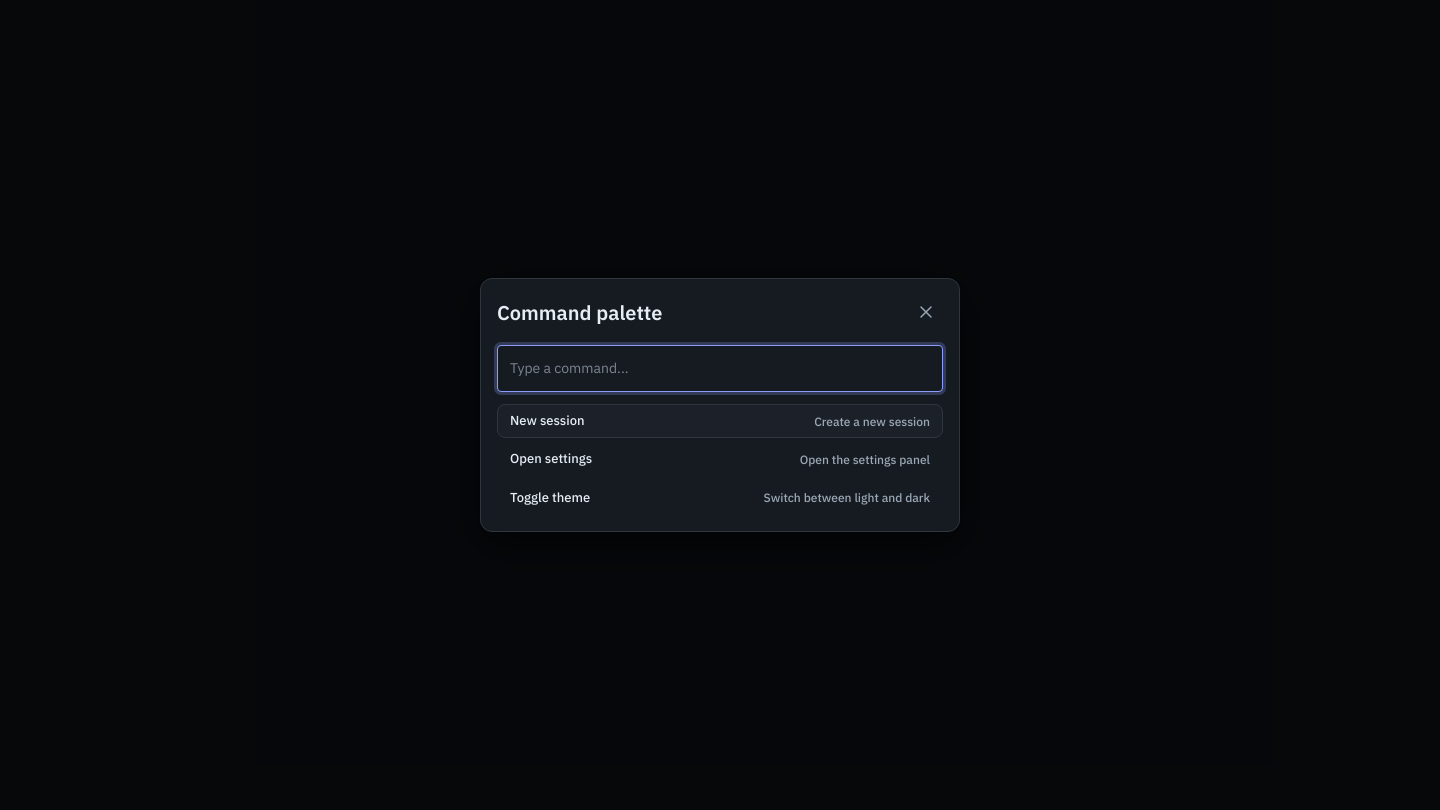
CommandPalette › shows an empty state when no commands match
Type "zzzz" into the field named "Search commands". click: (720,369)
box: [497, 345, 943, 392]
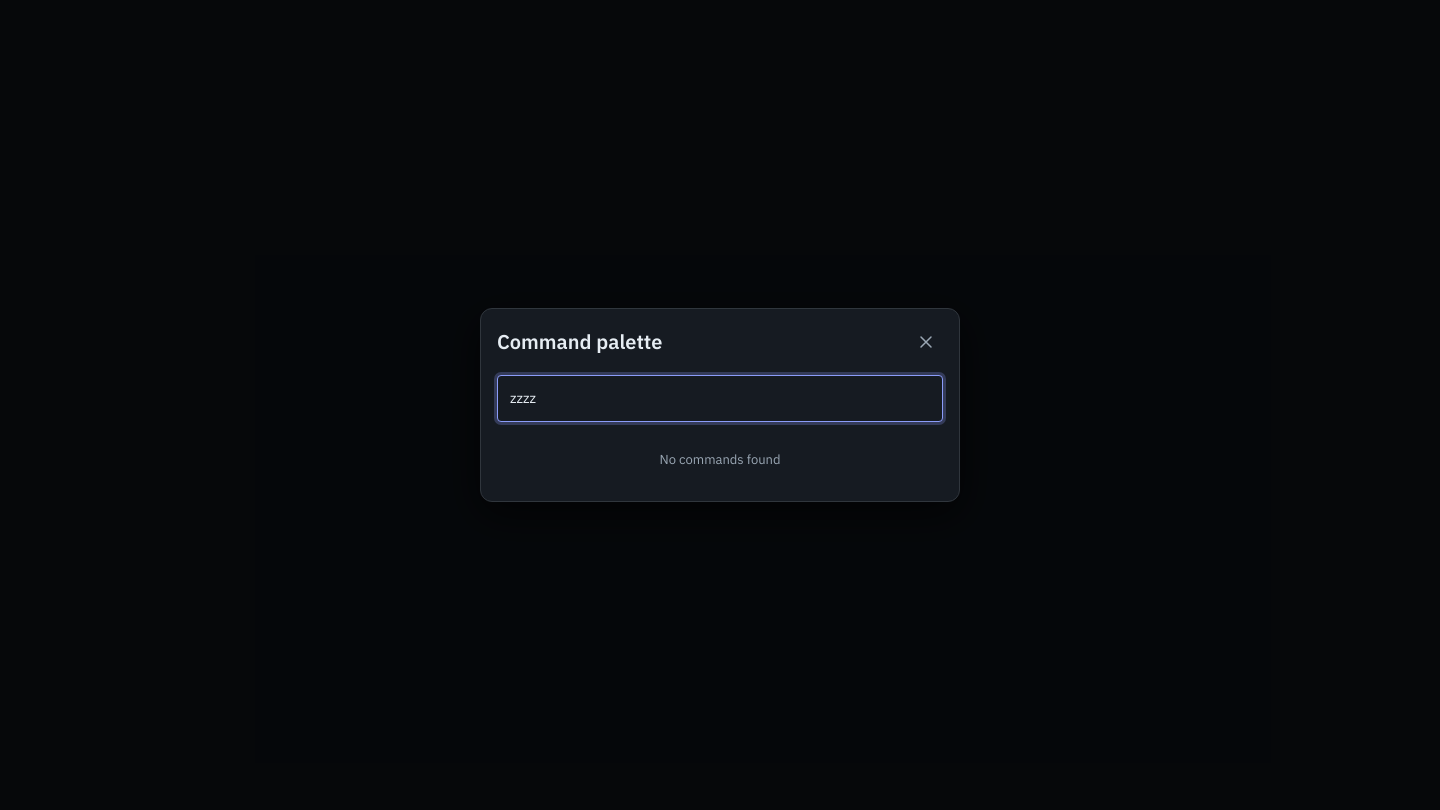
Expected: the text "No commands found" is shown, [660, 451, 780, 468]
